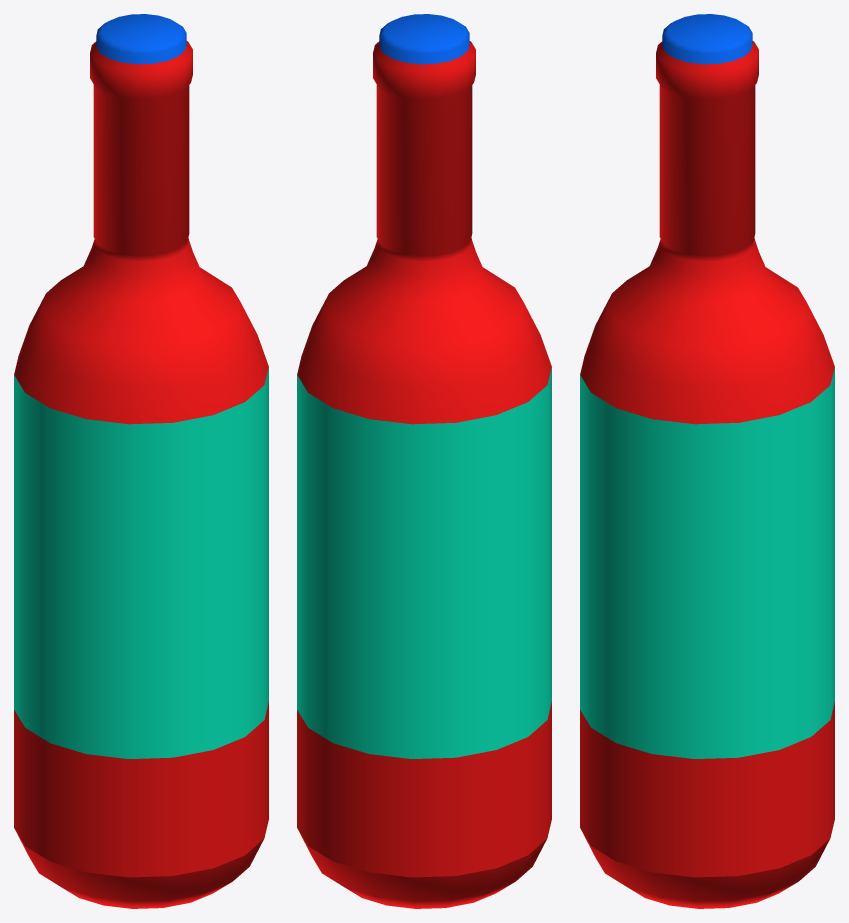
Rendered from Wine.fbx.
The picture shows the model from 3 angles, left to right: view 1: azimuth 30°, elevation 25°; view 2: azimuth 150°, elevation 25°; view 3: azimuth 270°, elevation 25°; orthographic projection.
Visible parts, largest first — view 1: Wine Bottle; view 2: Wine Bottle; view 3: Wine Bottle.
Part boxes in pixels (x1,y1,x2,y2): Wine Bottle: (14,14,268,908); Wine Bottle: (297,14,551,908); Wine Bottle: (580,14,834,908).
Bounding box in the file's own units: 6.27 × 22.91 × 6.29.
